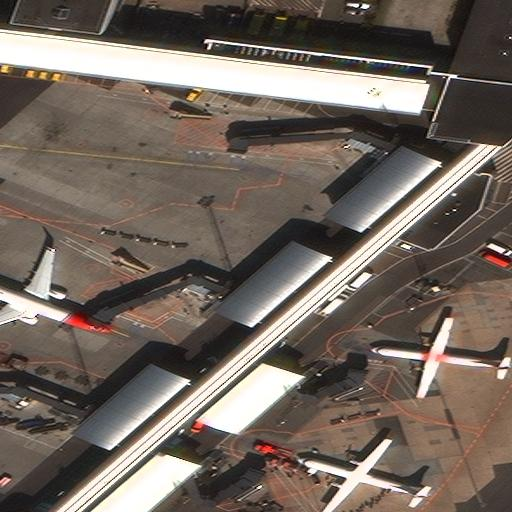Medium Civil Transport: (366, 317, 512, 398), (0, 248, 118, 339), (295, 437, 428, 512)
